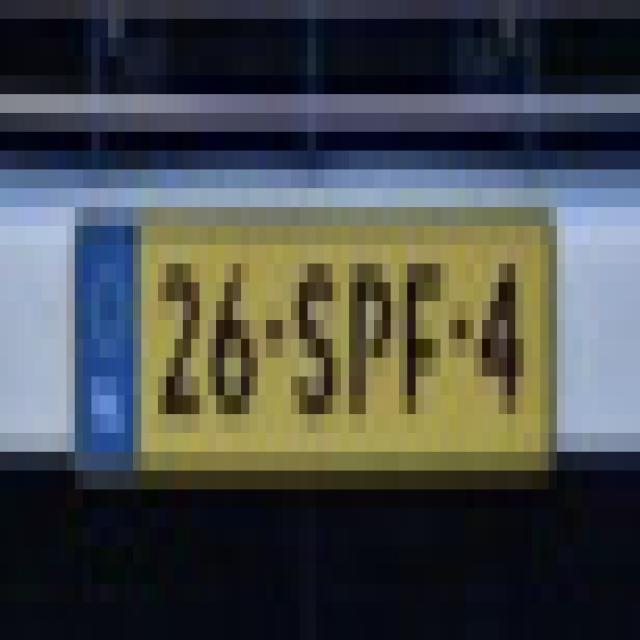4: (469, 234, 534, 446)
6: (207, 254, 260, 436)
F: (398, 225, 452, 434)
P: (345, 238, 396, 438)
S: (282, 230, 340, 438)
